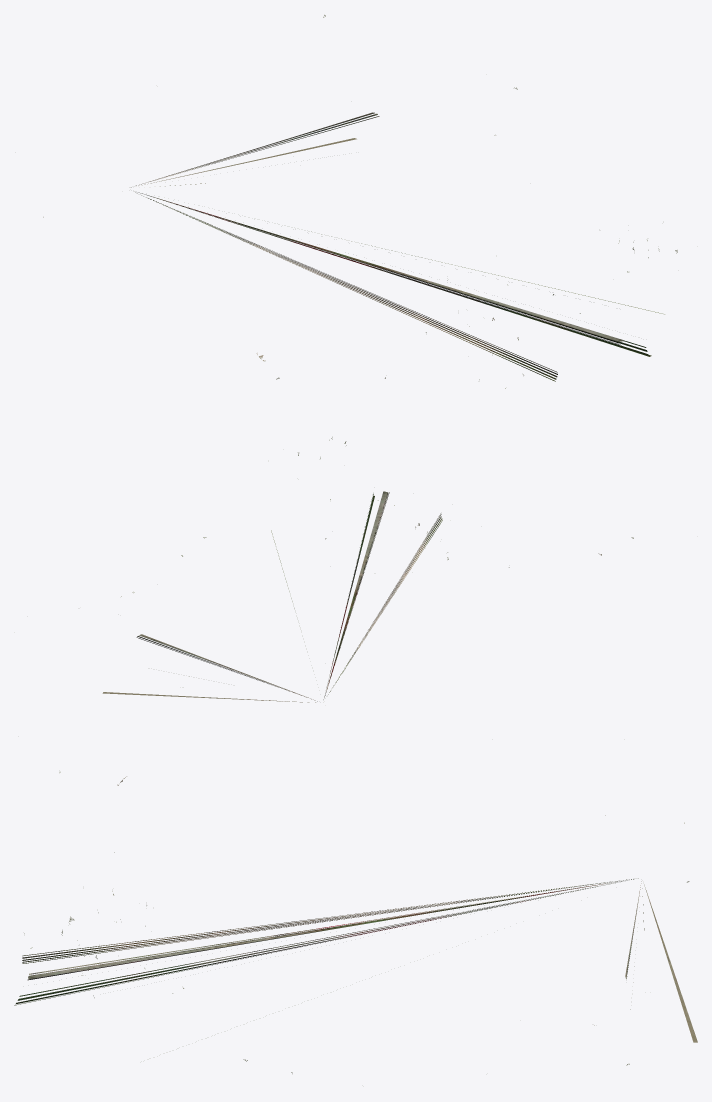
Rendered from nature_rock_cluster_01.glb.
3 views of the same model, one above another, from view 1: azimuth 30°, elevation 25°; view 2: azimuth 150°, elevation 25°; view 3: azimuth 270°, elevation 25° (orthographic). The views are drawn at different scales.
Visible parts, largest first — view 1: geometry_0; view 2: geometry_0; view 3: geometry_0.
Boxes of the visible parts, x1,y1,x2,y2 form: geometry_0: [43, 15, 677, 388]; geometry_0: [102, 437, 633, 702]; geometry_0: [14, 772, 697, 1073].
Bounding box in the file's own units: 0.9209 × 0.2145 × 0.9005.
1 material, 1 textured.
